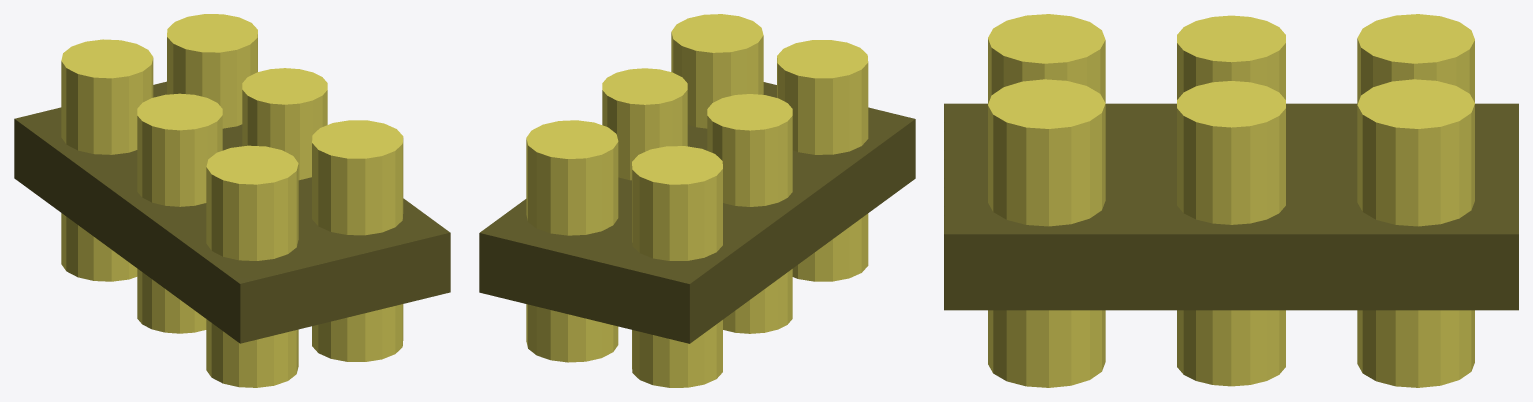
Rendered from SGAmmo.glb.
The picture shows the model from 3 angles, left to right: view 1: azimuth 30°, elevation 25°; view 2: azimuth 150°, elevation 25°; view 3: azimuth 270°, elevation 25°; orthographic projection. The views are drawn at different scales.
Visible parts, largest first — view 1: SGAmmo; view 2: SGAmmo; view 3: SGAmmo.
Part boxes in pixels (x1,y1,x2,y2): SGAmmo: (14,14,450,387); SGAmmo: (479,14,915,387); SGAmmo: (944,14,1518,387).
Size of the model in its own units: 0.0612 by 0.0566 by 0.1138.
1 material, 1 textured.
